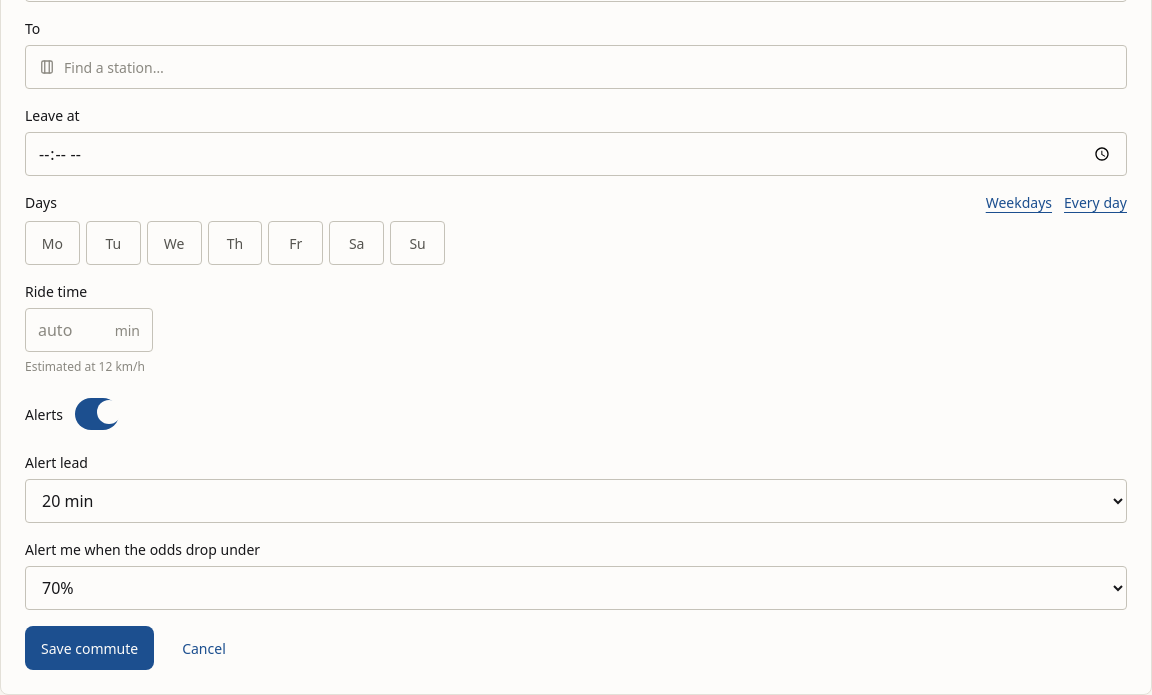
Test: CommuteForm › submit empty shows 4 validation messages
The width and height of the screenshot is (1152, 695).
(page scrolled)
Click the button "Save commute" at (90, 648), box [25,626,154,670]
(page scrolled)
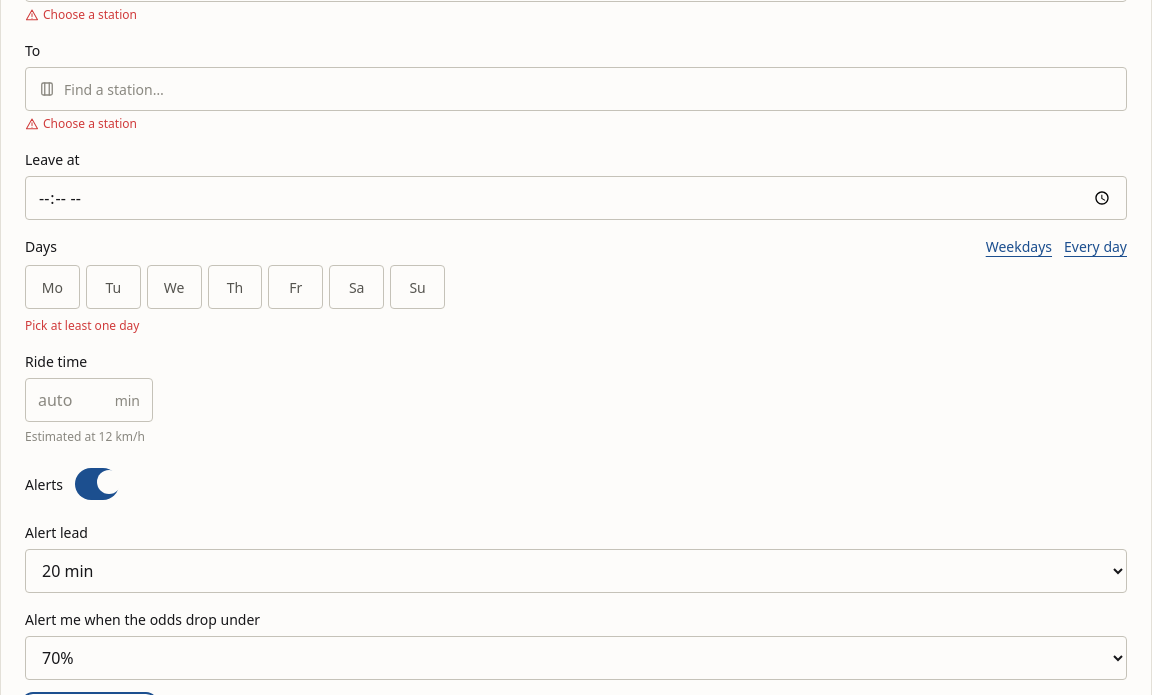
Expected: the text "Choose a station" is shown 2 times, [25,6,137,23]; [25,115,137,132]
Expected: the text "Pick at least one day" is shown, [25,317,139,334]
